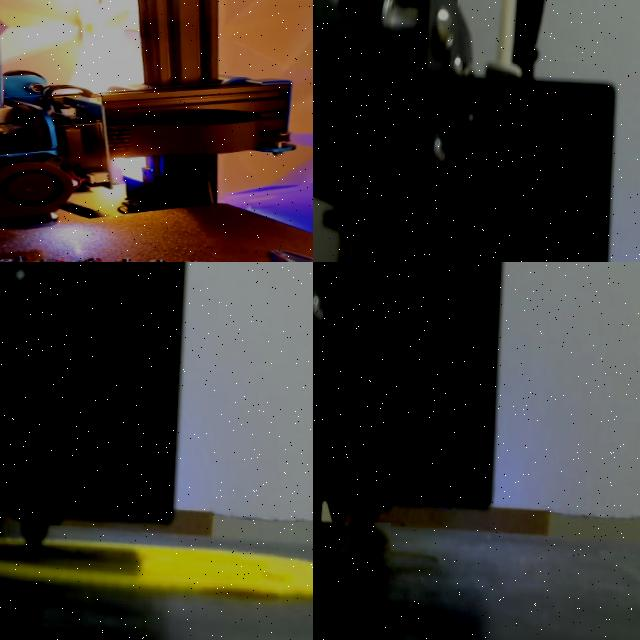spaghetti: (324, 520, 391, 566)
